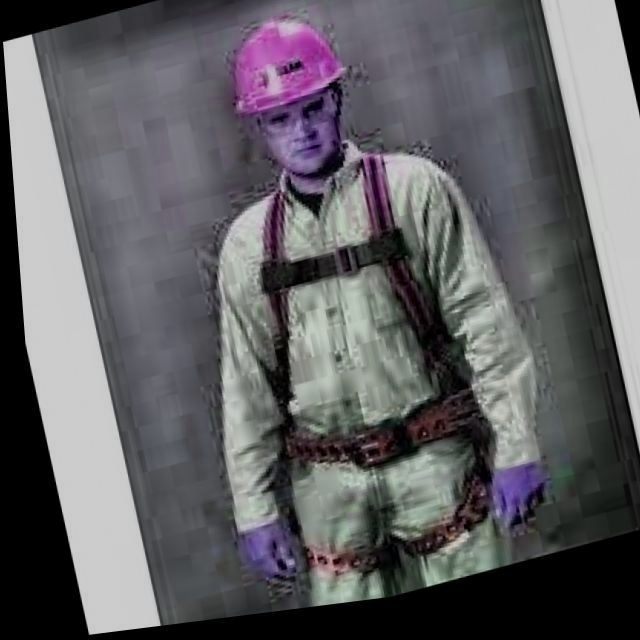safety belt: (209, 181, 519, 575)
